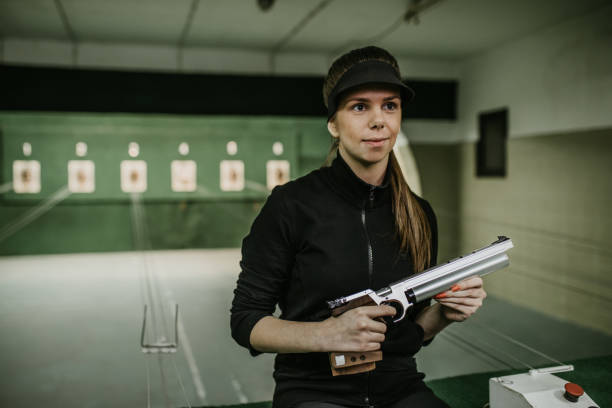gun: (324, 234, 513, 380)
